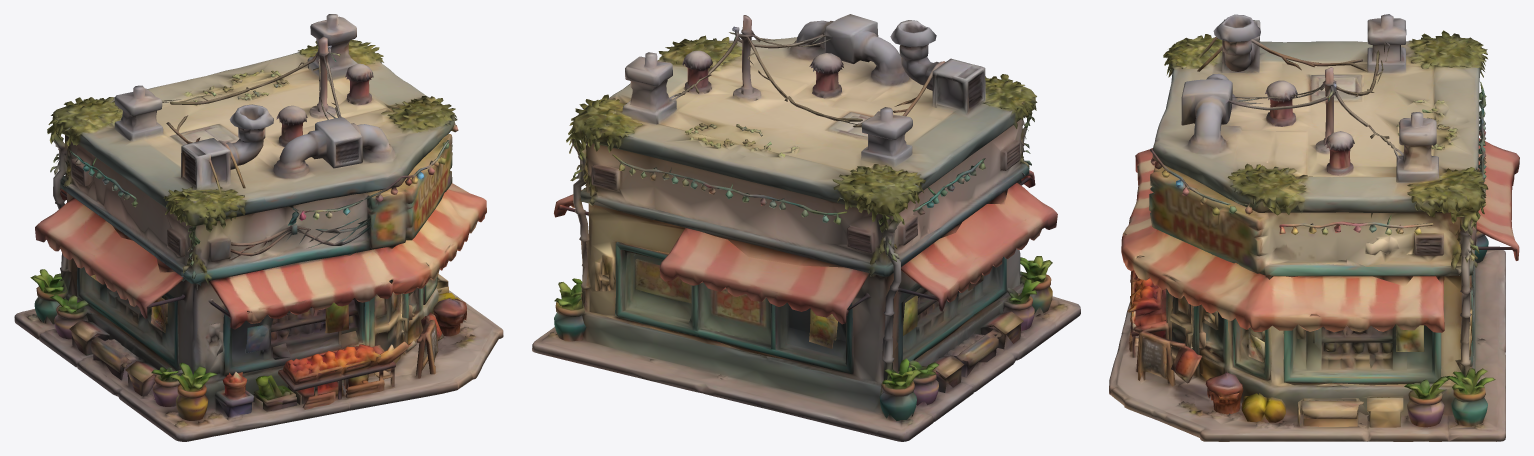
File: store_grocer.glb
3 renders of one model, left to right at view 1: azimuth 30°, elevation 25°; view 2: azimuth 150°, elevation 25°; view 3: azimuth 270°, elevation 25°, orthographic. The views are drawn at different scales.
Visible parts, largest first — view 1: tripo_part_0, tripo_part_2, tripo_part_4, tripo_part_8, tripo_part_3, tripo_part_1, tripo_part_5, tripo_part_17, tripo_part_27, tripo_part_24, tripo_part_15, tripo_part_19 (+9 smaller); view 2: tripo_part_0, tripo_part_2, tripo_part_11, tripo_part_14, tripo_part_8, tripo_part_5, tripo_part_15, tripo_part_7, tripo_part_16, tripo_part_19, tripo_part_17, tripo_part_26 (+6 smaller); view 3: tripo_part_0, tripo_part_2, tripo_part_4, tripo_part_6, tripo_part_14, tripo_part_9, tripo_part_1, tripo_part_16, tripo_part_12, tripo_part_10, tripo_part_21, tripo_part_18 (+7 smaller).
Part boxes in pixels (<box>): tripo_part_0: <box>47,14,458,291</box>; tripo_part_2: <box>14,134,503,441</box>; tripo_part_4: <box>208,183,486,329</box>; tripo_part_8: <box>35,197,184,318</box>; tripo_part_3: <box>223,298,365,376</box>; tripo_part_1: <box>278,340,416,409</box>; tripo_part_5: <box>77,266,178,369</box>; tripo_part_17: <box>170,362,217,420</box>; tripo_part_27: <box>374,280,407,370</box>; tripo_part_24: <box>215,371,253,417</box>; tripo_part_15: <box>30,269,68,324</box>; tripo_part_19: <box>90,336,140,380</box>; tripo_part_0: <box>566,14,1037,379</box>; tripo_part_2: <box>532,119,1080,441</box>; tripo_part_11: <box>615,242,853,374</box>; tripo_part_14: <box>659,228,869,324</box>; tripo_part_8: <box>898,182,1057,311</box>; tripo_part_5: <box>892,256,1006,371</box>; tripo_part_15: <box>879,358,921,420</box>; tripo_part_7: <box>612,154,846,224</box>; tripo_part_16: <box>554,282,586,341</box>; tripo_part_19: <box>944,328,1002,377</box>; tripo_part_17: <box>1020,256,1052,313</box>; tripo_part_26: <box>1002,279,1040,331</box>; tripo_part_0: <box>1150,14,1488,376</box>; tripo_part_2: <box>1109,165,1505,441</box>; tripo_part_4: <box>1121,148,1444,332</box>; tripo_part_6: <box>1283,324,1441,385</box>; tripo_part_14: <box>1474,138,1519,260</box>; tripo_part_9: <box>1134,327,1201,386</box>; tripo_part_1: <box>1128,270,1171,357</box>; tripo_part_16: <box>1446,368,1495,428</box>; tripo_part_12: <box>1232,318,1272,380</box>; tripo_part_10: <box>1297,398,1368,426</box>; tripo_part_21: <box>1198,304,1225,380</box>; tripo_part_18: <box>1404,376,1449,427</box>.
Size of the model in its own units: 0.9795 by 0.7369 by 0.8826.
1 material, 1 textured.
